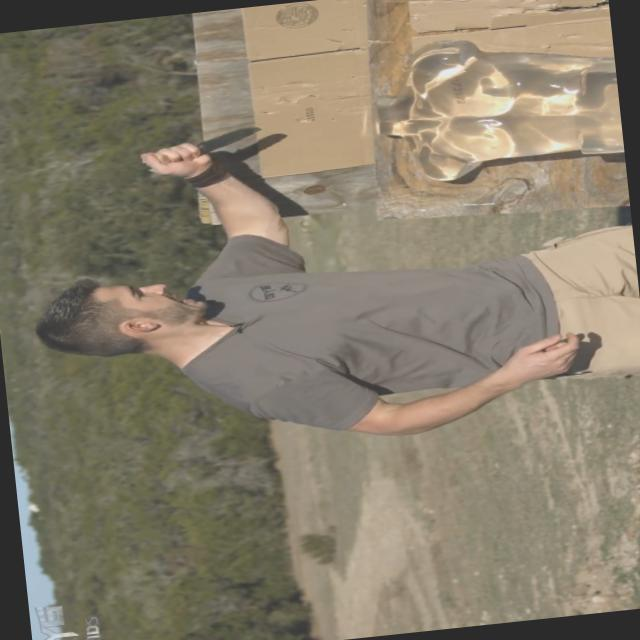knife: (136, 120, 264, 175)
